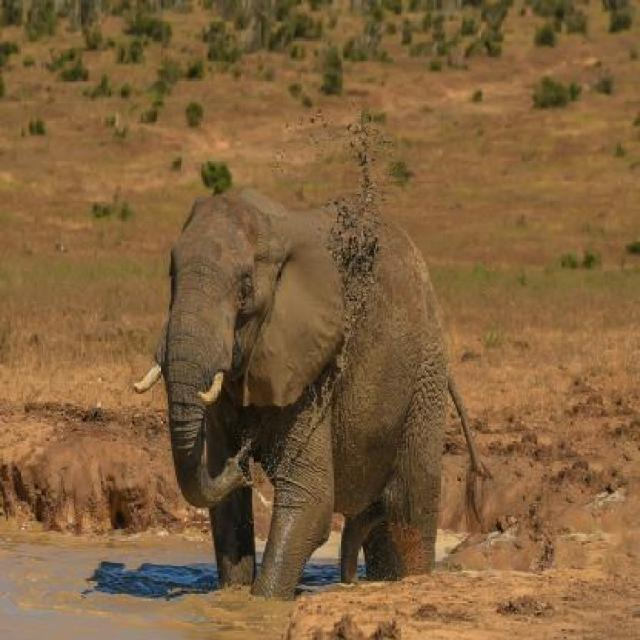Elephant: (140, 171, 491, 598)
